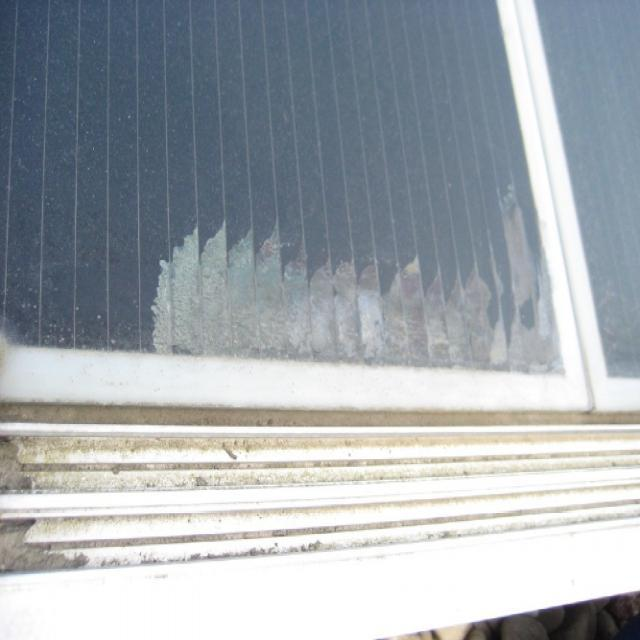faulty: (120, 206, 596, 368)
